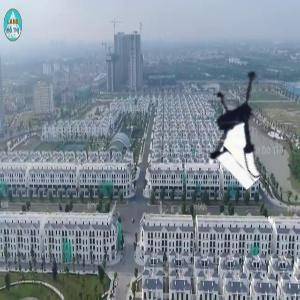drone: (185, 60, 300, 175)
